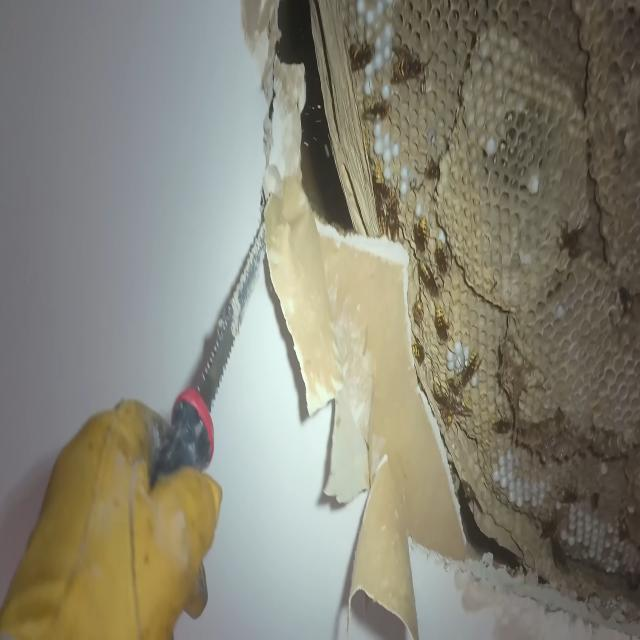Hornets: (388, 40, 430, 89), (358, 87, 393, 123), (384, 183, 404, 244), (453, 351, 484, 389), (419, 257, 440, 303), (370, 151, 385, 206), (433, 303, 452, 346), (414, 213, 431, 258), (431, 378, 452, 413), (434, 235, 451, 278)
